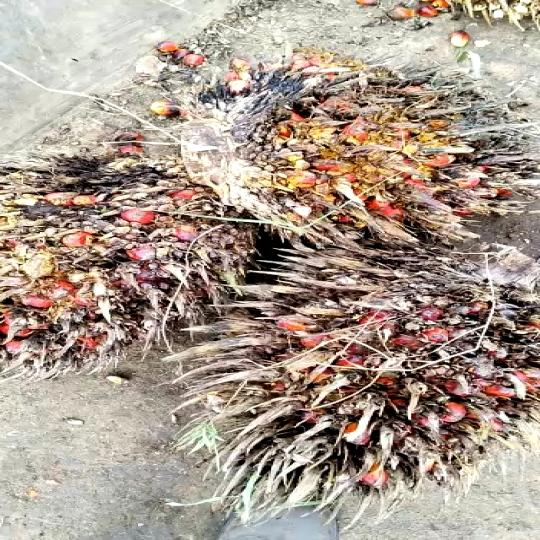terlalu masak: (176, 245, 540, 521)
